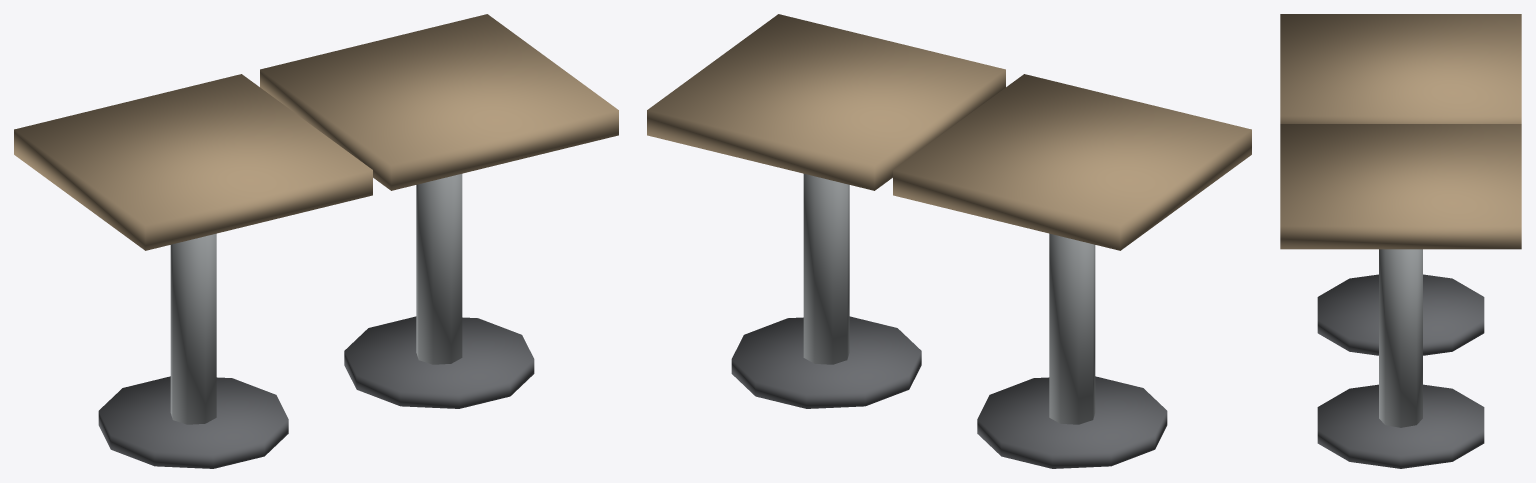
Rendered from cafe_pedestal_table__cluster.glb.
3 renders of one model, left to right at view 1: azimuth 30°, elevation 25°; view 2: azimuth 150°, elevation 25°; view 3: azimuth 270°, elevation 25°, orthographic. The views are drawn at different scales.
Parts seen in each view (by area): view 1: world; view 2: world; view 3: world.
Boxes of the visible parts, x1=… form: world: x1=14, y1=14, x2=618, y2=468; world: x1=647, y1=14, x2=1251, y2=468; world: x1=1280, y1=14, x2=1521, y2=468.
Size of the model in its own units: 1.37 by 0.775 by 0.66.
